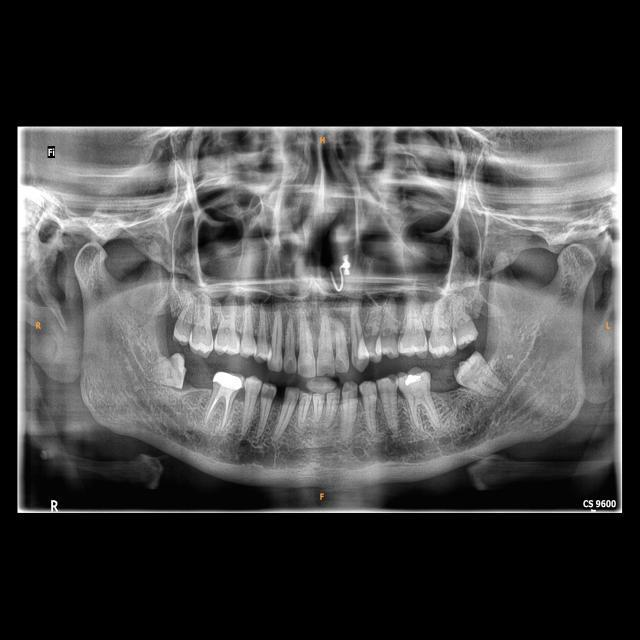dolgu: (401, 369, 425, 388)
kanal-tedavisi: (203, 390, 232, 424)
kaplama: (215, 368, 246, 392)
